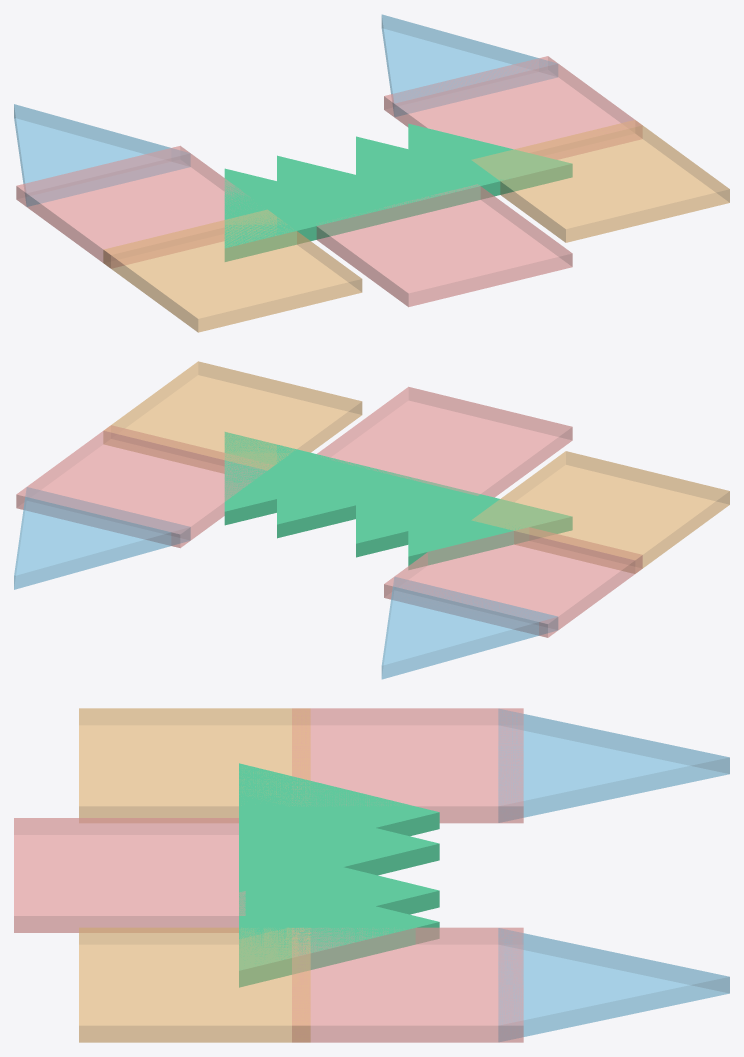
File: castello_step7.glb
3 views of the same model, one above another, from view 1: azimuth 30°, elevation 25°; view 2: azimuth 150°, elevation 25°; view 3: azimuth 270°, elevation 25° (orthographic). The views are drawn at different scales.
Visible parts, largest first — view 1: quadrato_grande, quadrato_piccolo.001, quadrato_piccolo, quadrato_grande.001, quadrato_grande.002, triangolo_isoscele_grande, triangolo_isoscele_grande.001, triangolo_equilatero, triangolo_equilatero.003, triangolo_equilatero.001, triangolo_equilatero.002; view 2: quadrato_piccolo, quadrato_grande.002, quadrato_piccolo.001, quadrato_grande.001, quadrato_grande, triangolo_isoscele_grande, triangolo_isoscele_grande.001, triangolo_equilatero, triangolo_equilatero.002, triangolo_equilatero.003, triangolo_equilatero.001; view 3: quadrato_piccolo.001, quadrato_grande.002, quadrato_grande, quadrato_piccolo, quadrato_grande.001, triangolo_isoscele_grande, triangolo_isoscele_grande.001, triangolo_equilatero.001, triangolo_equilatero.003, triangolo_equilatero.002, triangolo_equilatero.
Part boxes in pixels (left/top/right/bottom): quadrato_grande: left=316, top=184, right=572, bottom=307; quadrato_piccolo.001: left=472, top=120, right=729, bottom=242; quadrato_piccolo: left=103, top=210, right=362, bottom=332; quadrato_grande.001: left=16, top=145, right=248, bottom=268; quadrato_grande.002: left=384, top=56, right=642, bottom=159; triangolo_isoscele_grande: left=14, top=104, right=190, bottom=206; triangolo_isoscele_grande.001: left=381, top=14, right=557, bottom=116; triangolo_equilatero: left=224, top=168, right=388, bottom=261; triangolo_equilatero.003: left=408, top=123, right=572, bottom=208; triangolo_equilatero.001: left=277, top=155, right=441, bottom=244; triangolo_equilatero.002: left=356, top=136, right=519, bottom=213; quadrato_piccolo: left=471, top=451, right=729, bottom=573; quadrato_grande.002: left=16, top=425, right=271, bottom=548; quadrato_piccolo.001: left=103, top=361, right=362, bottom=473; quadrato_grande.001: left=384, top=527, right=642, bottom=637; quadrato_grande: left=317, top=386, right=572, bottom=497; triangolo_isoscele_grande: left=381, top=577, right=557, bottom=679; triangolo_isoscele_grande.001: left=14, top=487, right=190, bottom=589; triangolo_equilatero: left=408, top=477, right=572, bottom=569; triangolo_equilatero.002: left=277, top=444, right=405, bottom=538; triangolo_equilatero.003: left=224, top=432, right=383, bottom=525; triangolo_equilatero.001: left=356, top=464, right=434, bottom=557; quadrato_piccolo.001: left=79, top=927, right=310, bottom=1042; quadrato_grande.002: left=292, top=927, right=523, bottom=1042; quadrato_grande: left=14, top=818, right=245, bottom=932; quadrato_piccolo: left=79, top=708, right=310, bottom=822; quadrato_grande.001: left=292, top=708, right=523, bottom=823; triangolo_isoscele_grande: left=498, top=708, right=729, bottom=822; triangolo_isoscele_grande.001: left=498, top=928, right=729, bottom=1041; triangolo_equilatero.001: left=239, top=795, right=439, bottom=892; triangolo_equilatero.003: left=239, top=902, right=439, bottom=987; triangolo_equilatero.002: left=239, top=863, right=439, bottom=939; triangolo_equilatero: left=239, top=763, right=439, bottom=836.
Size of the model in its own units: 3.24 by 0.08 by 3.09.
